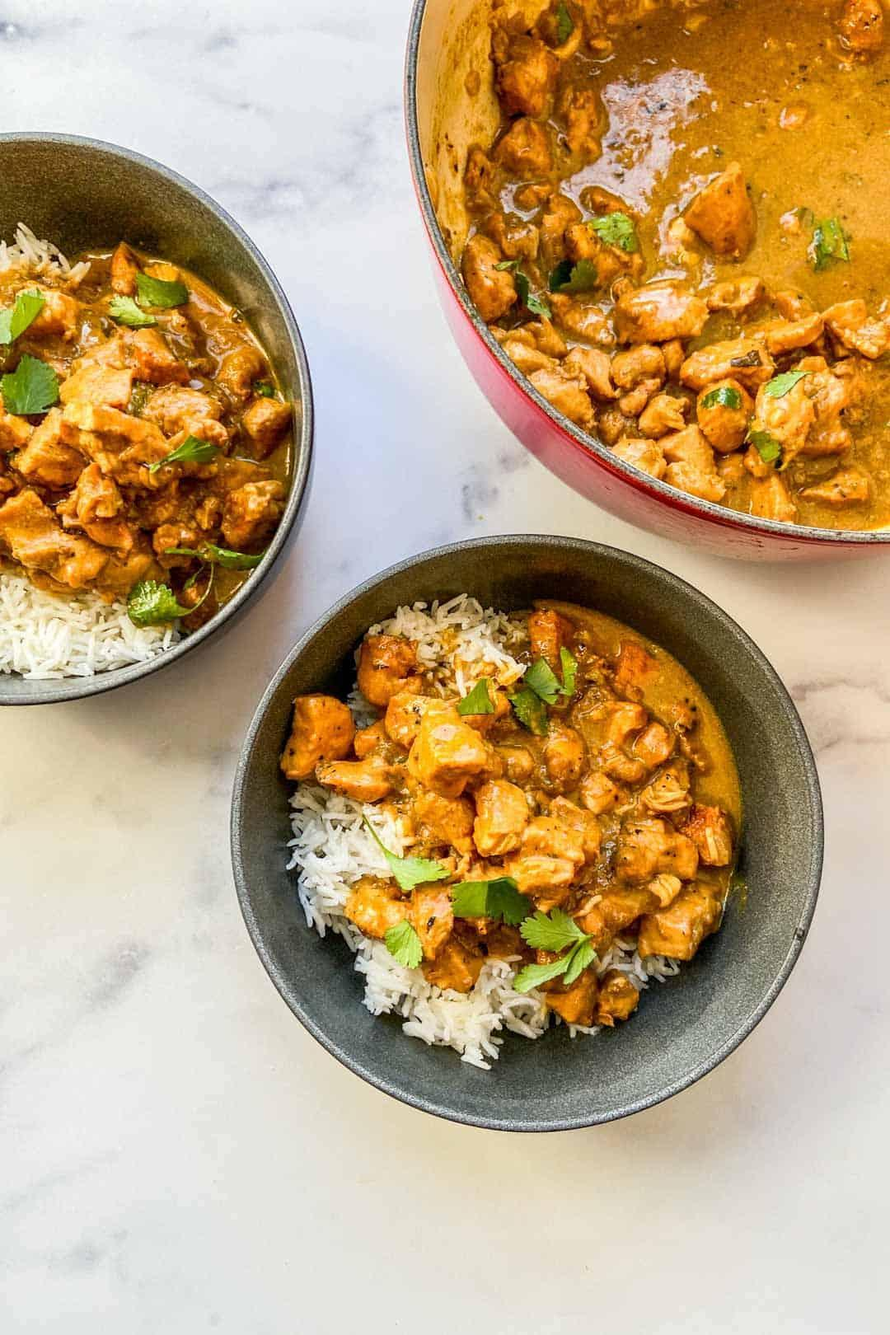chicken: (437, 47, 890, 394), (334, 620, 713, 992), (16, 208, 251, 605)
